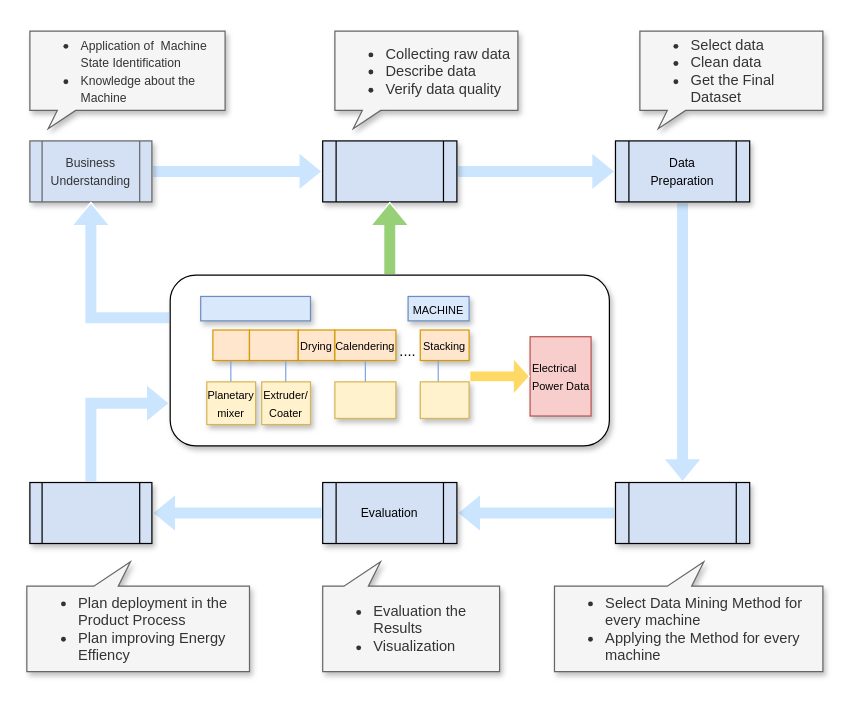
Image size: 852x702. Some labels were removed from this diagram. Here are the shapes that lost their labels. From the top down, the centre of each, then its label:
At (x=390, y=172): "Data Understanding".
At (x=256, y=309): "PROCESS CHAIN".
At (x=232, y=346): "Mixing".
At (x=274, y=346): "Coating".
At (x=366, y=401): "Calender".
At (x=445, y=401): "Z-Folder".
At (x=91, y=514): "Deployment".
At (x=683, y=514): "Modelling".
